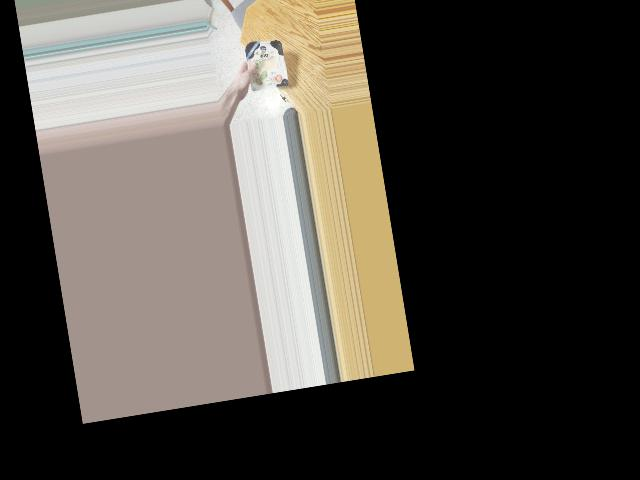cheese: (240, 37, 288, 95)
